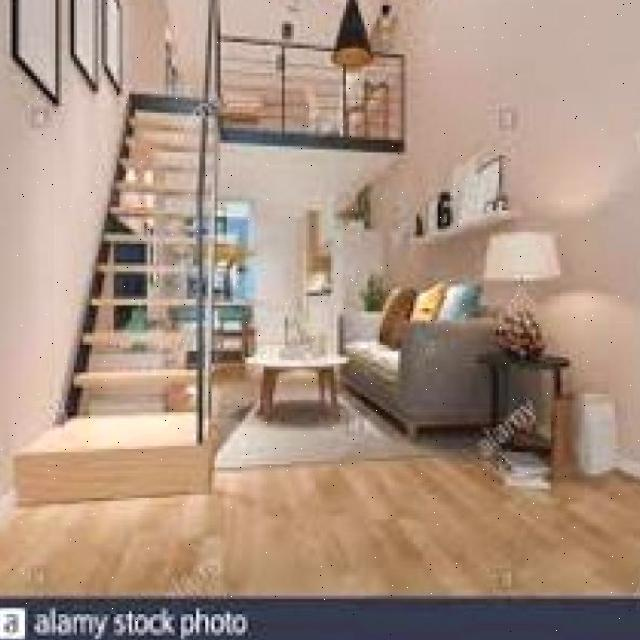stair: (54, 85, 218, 447)
